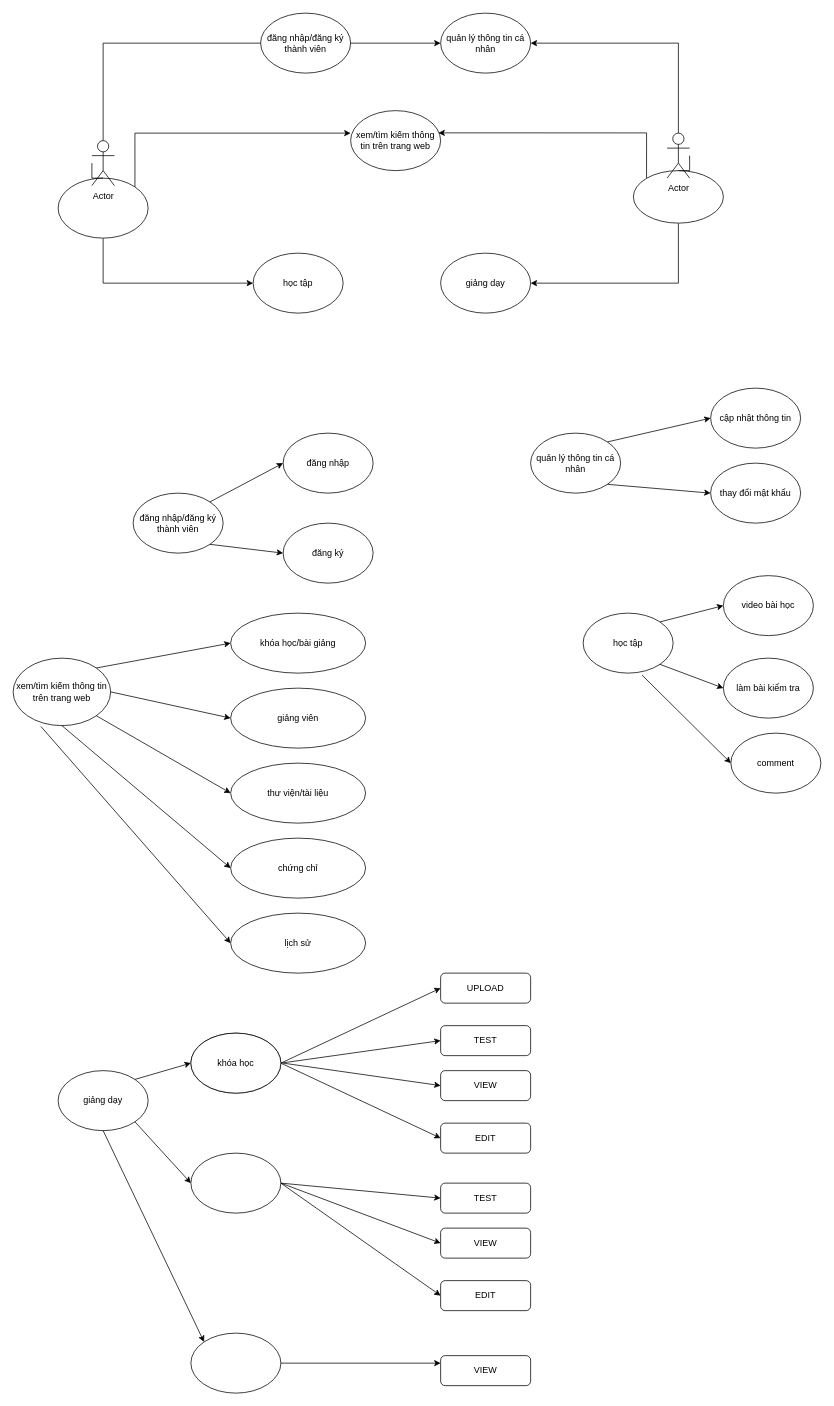
This 834x1406 diagram has some shape labels left out. Each missing label, with the box of its shape:
bài giảng: (190, 1152, 281, 1213)
giáo viên: (633, 170, 723, 223)
ngân hàng câu hỏi: (190, 1332, 281, 1393)
sinh vien: (57, 177, 148, 238)
